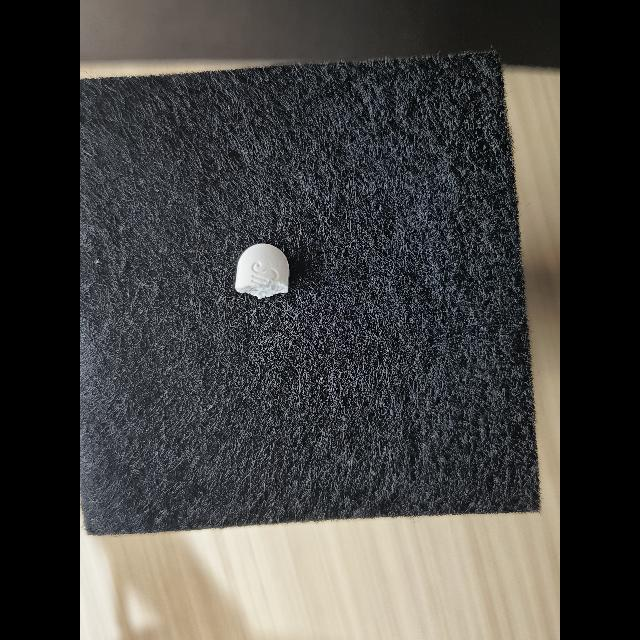Chipped Pill: (235, 243, 290, 299)
